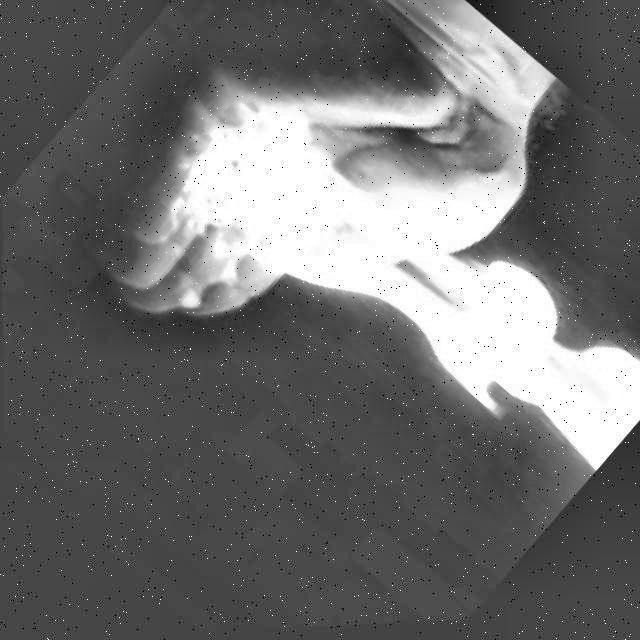Fire: (200, 68, 640, 536)
